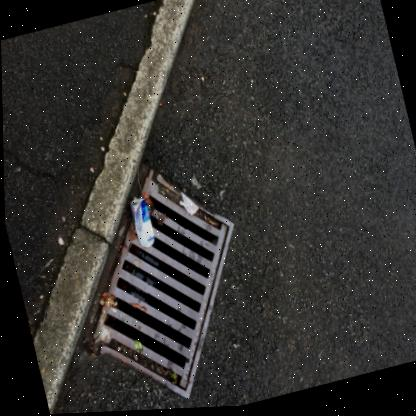Metal: (128, 197, 152, 248), (131, 198, 136, 204)
Waste: (177, 193, 196, 217)
